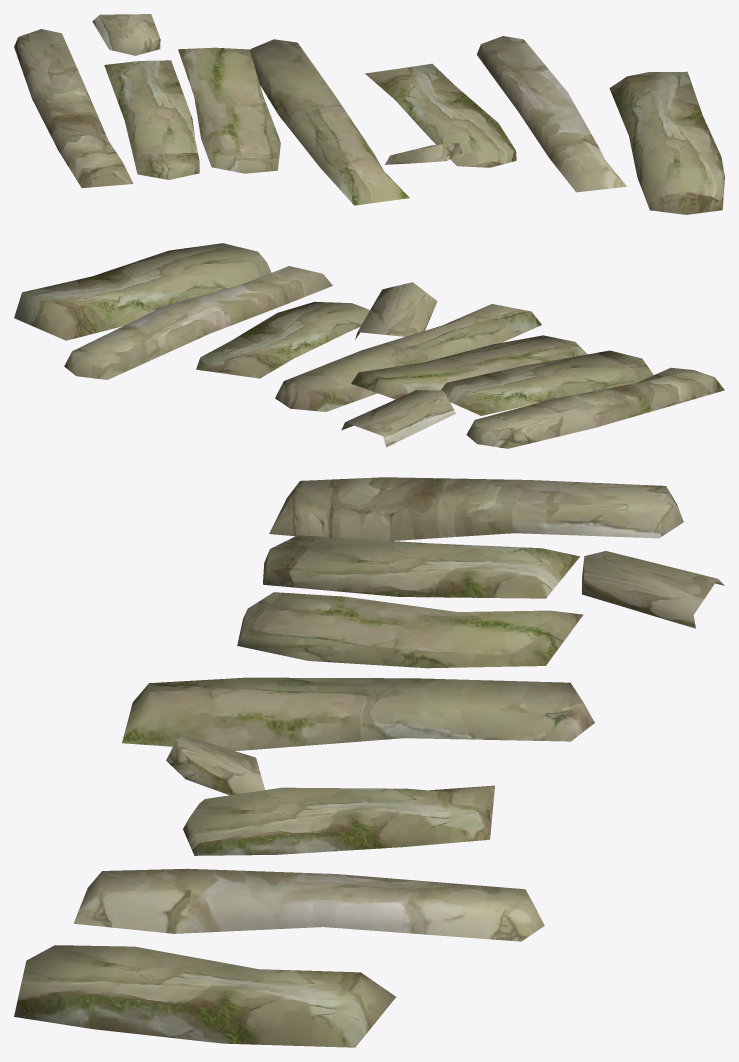
Rendered from zhsly_shijie.FBX.
3 views of the same model, one above another, from view 1: azimuth 30°, elevation 25°; view 2: azimuth 150°, elevation 25°; view 3: azimuth 270°, elevation 25° (orthographic). The views are drawn at different scales.
Visible parts, largest first — view 1: zhsly_shijie07, zhsly_shijie04, zhsly_shijie03, zhsly_shijie06, zhsly_shijie01, zhsly_shijie02, zhsly_shijie05, zhsly_shijie08, zhsly_shijie09; view 2: zhsly_shijie07, zhsly_shijie06, zhsly_shijie04, zhsly_shijie01, zhsly_shijie02, zhsly_shijie05, zhsly_shijie03, zhsly_shijie08, zhsly_shijie09; view 3: zhsly_shijie04, zhsly_shijie07, zhsly_shijie06, zhsly_shijie01, zhsly_shijie03, zhsly_shijie05, zhsly_shijie02, zhsly_shijie08, zhsly_shijie09.
Boxes of the visible parts, bbox=[...] form: zhsly_shijie07: bbox=[609, 71, 724, 214]; zhsly_shijie04: bbox=[250, 39, 409, 205]; zhsly_shijie03: bbox=[178, 47, 280, 173]; zhsly_shijie06: bbox=[476, 36, 626, 192]; zhsly_shijie01: bbox=[14, 29, 133, 188]; zhsly_shijie02: bbox=[104, 60, 199, 179]; zhsly_shijie05: bbox=[365, 63, 516, 167]; zhsly_shijie08: bbox=[92, 14, 160, 55]; zhsly_shijie09: bbox=[385, 143, 461, 164]; zhsly_shijie07: bbox=[14, 243, 271, 340]; zhsly_shijie06: bbox=[64, 266, 332, 379]; zhsly_shijie04: bbox=[275, 304, 541, 411]; zhsly_shijie01: bbox=[466, 367, 724, 448]; zhsly_shijie02: bbox=[441, 350, 653, 415]; zhsly_shijie05: bbox=[196, 302, 369, 378]; zhsly_shijie03: bbox=[351, 335, 587, 399]; zhsly_shijie08: bbox=[341, 390, 455, 447]; zhsly_shijie09: bbox=[355, 282, 437, 339]; zhsly_shijie04: bbox=[122, 677, 594, 750]; zhsly_shijie07: bbox=[14, 945, 395, 1047]; zhsly_shijie06: bbox=[73, 868, 544, 941]; zhsly_shijie01: bbox=[269, 477, 683, 540]; zhsly_shijie03: bbox=[237, 592, 583, 668]; zhsly_shijie05: bbox=[183, 785, 494, 855]; zhsly_shijie02: bbox=[263, 535, 579, 598]; zhsly_shijie08: bbox=[582, 551, 724, 628]; zhsly_shijie09: bbox=[166, 735, 264, 795].
Size of the model in its own units: 839 by 163 by 563.
